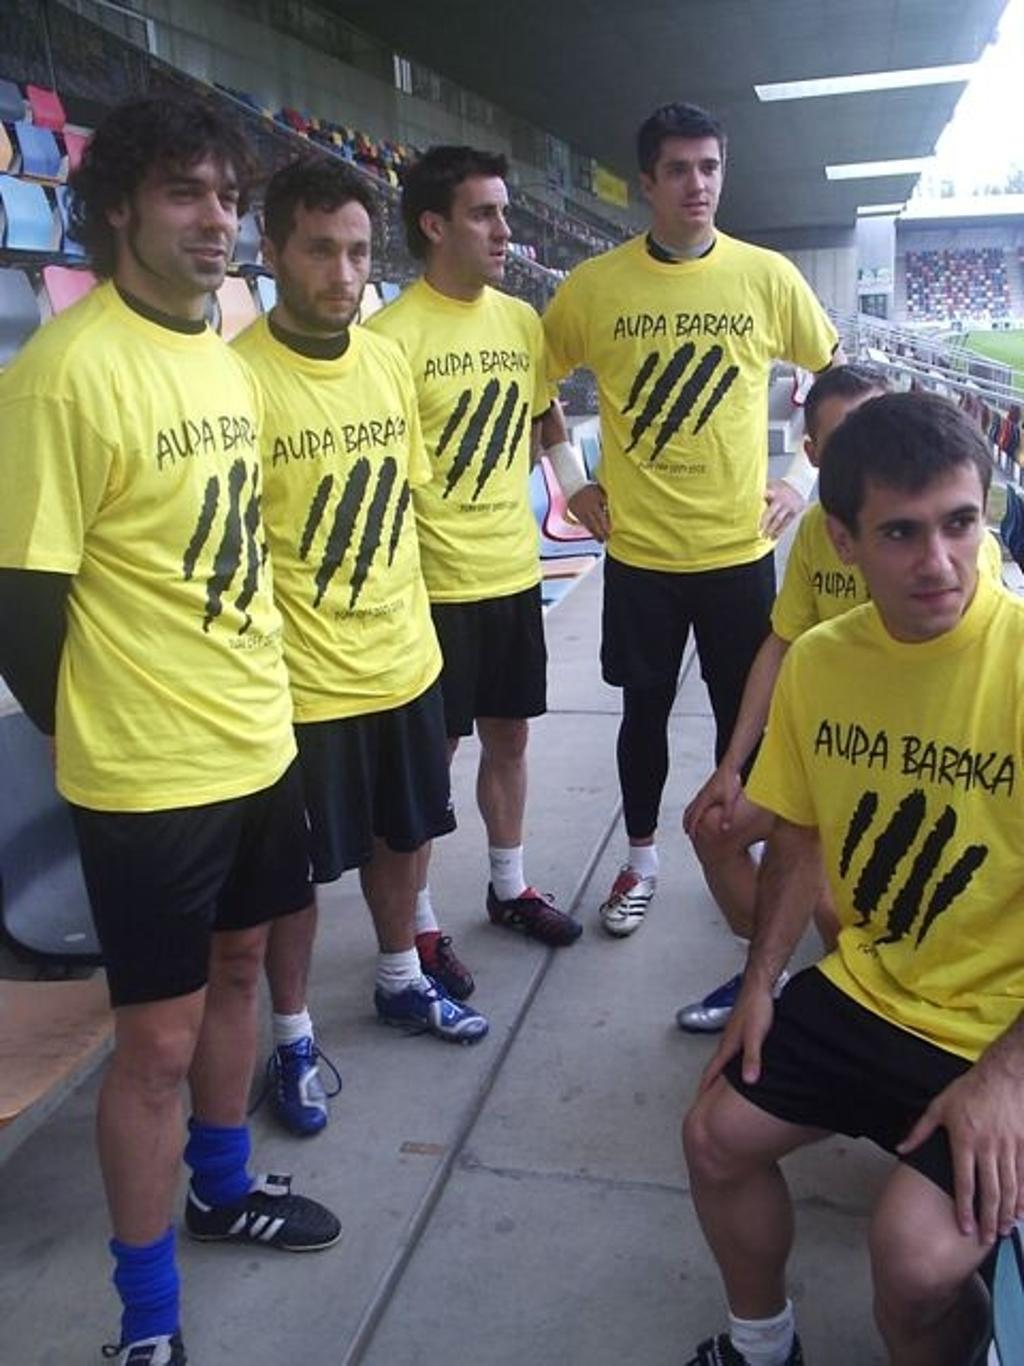face: (861, 469, 986, 632), (133, 165, 242, 282), (288, 195, 368, 323), (459, 165, 518, 288), (661, 139, 725, 232)
